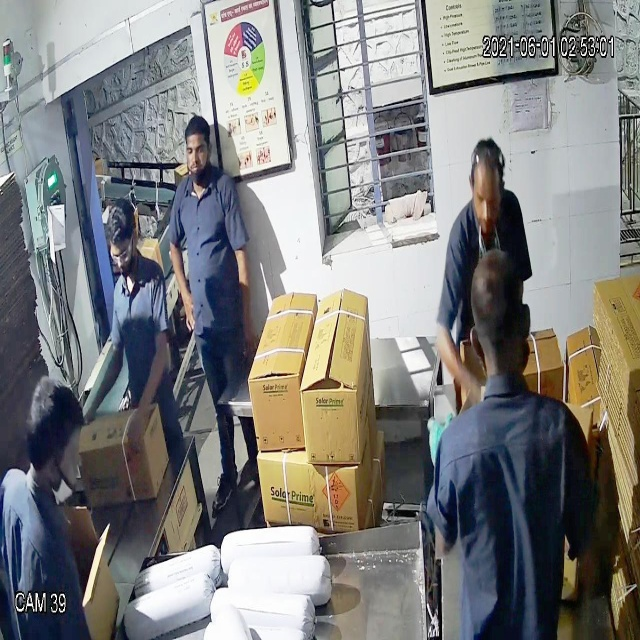Gafas: (106, 231, 139, 270)
Sin_gafas: (464, 180, 505, 218)
